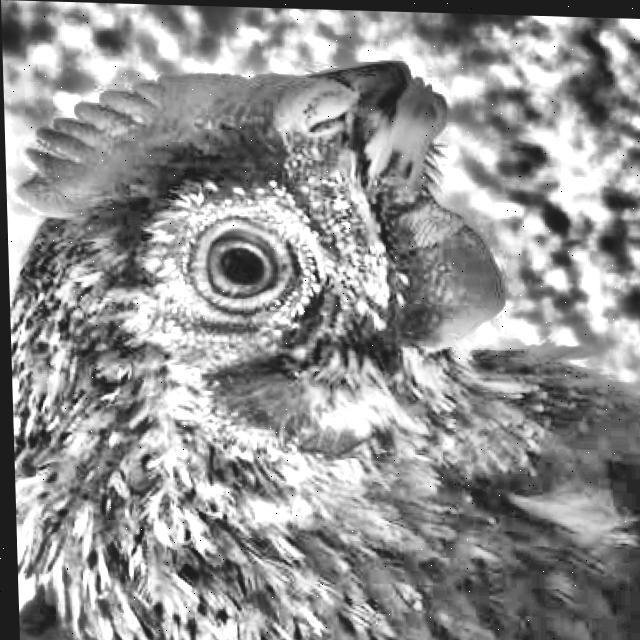Healthy: (188, 213, 309, 336)
